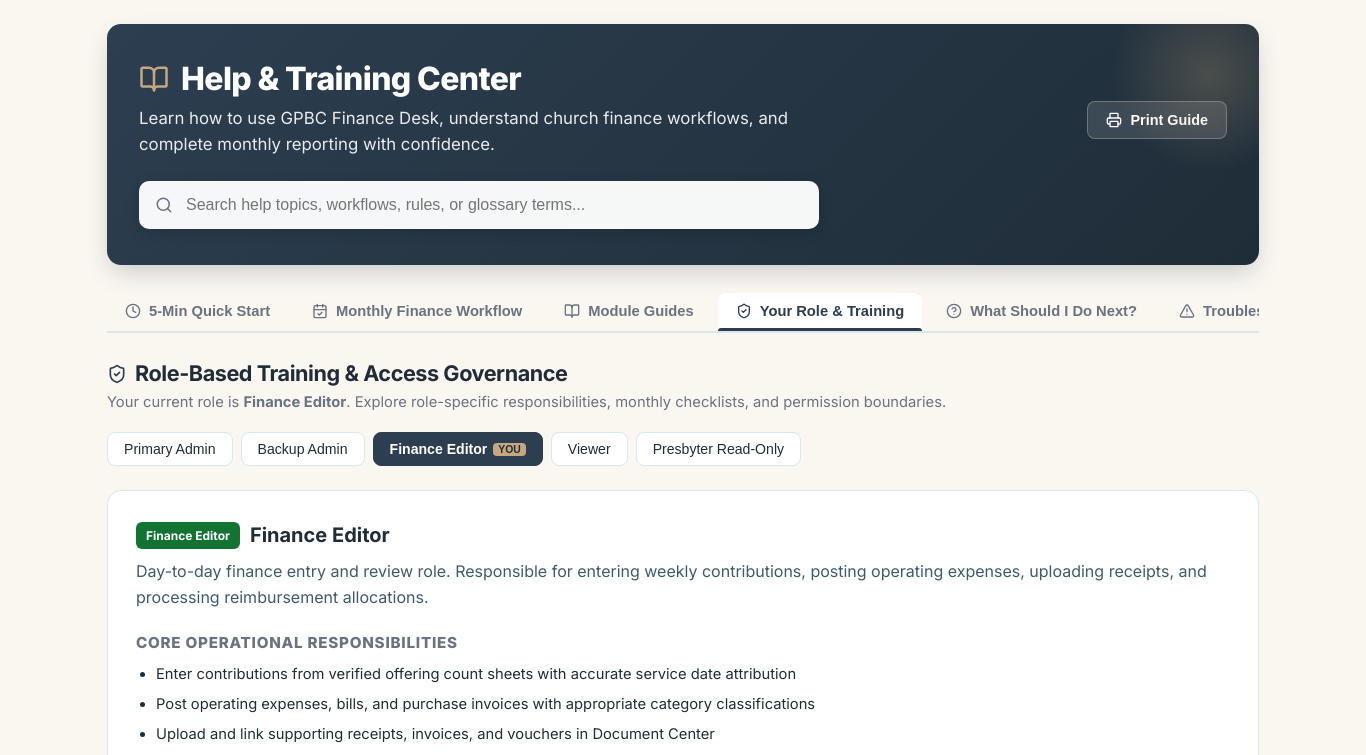
HelpCenter Component › 6. Your Role tab highlights user role and switches roles dynamically
The width and height of the screenshot is (1366, 755).
Check: the heading "Role-Based Training & Access Governance" is shown, box [107, 360, 568, 386]
Check: the text "YOU" is shown, box [493, 443, 526, 456]
# Click Primary Admin tab
Click the button "Primary Admin". click: x=170, y=449
box: [107, 432, 232, 466]
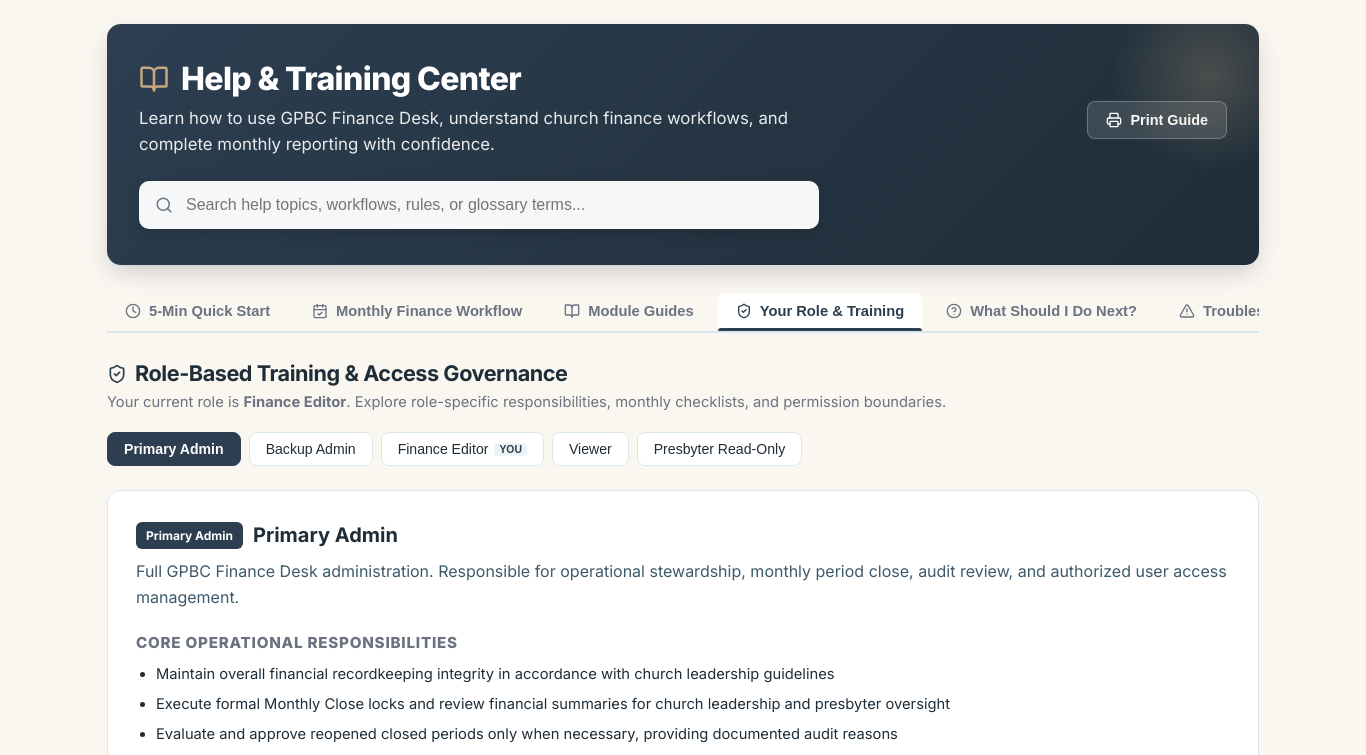
Check: the text "Full GPBC Finance Desk administration" is shown, box [136, 561, 1227, 607]
